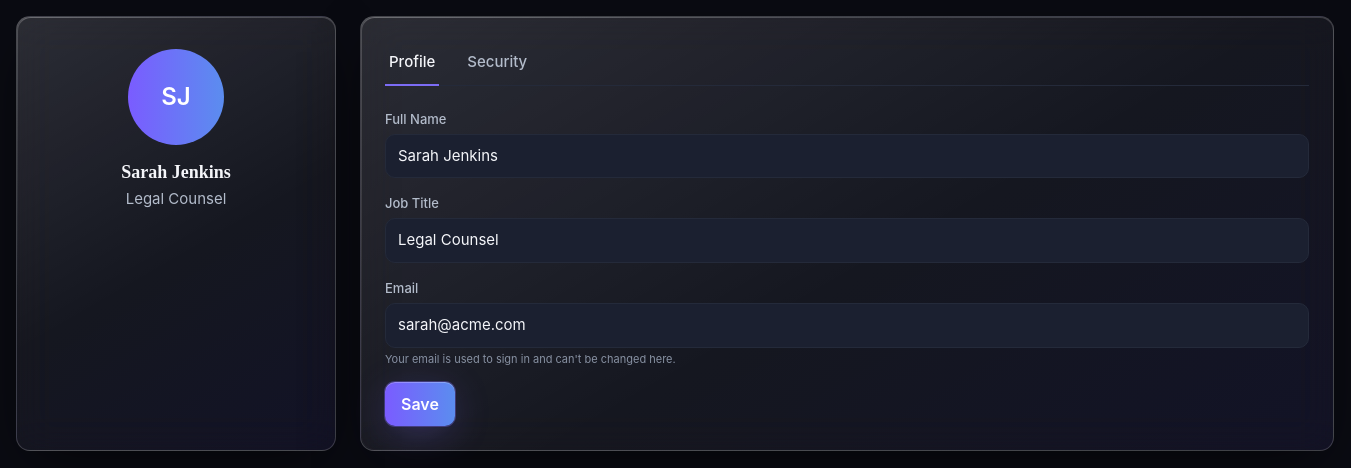
Scenario: AccountSettingsView (spec 023 AC-9..12) › save_profile_error_shows_message_and_no_refresh
Click the button "Save" at (420, 404), box x1=385 y1=382 x2=455 y2=426
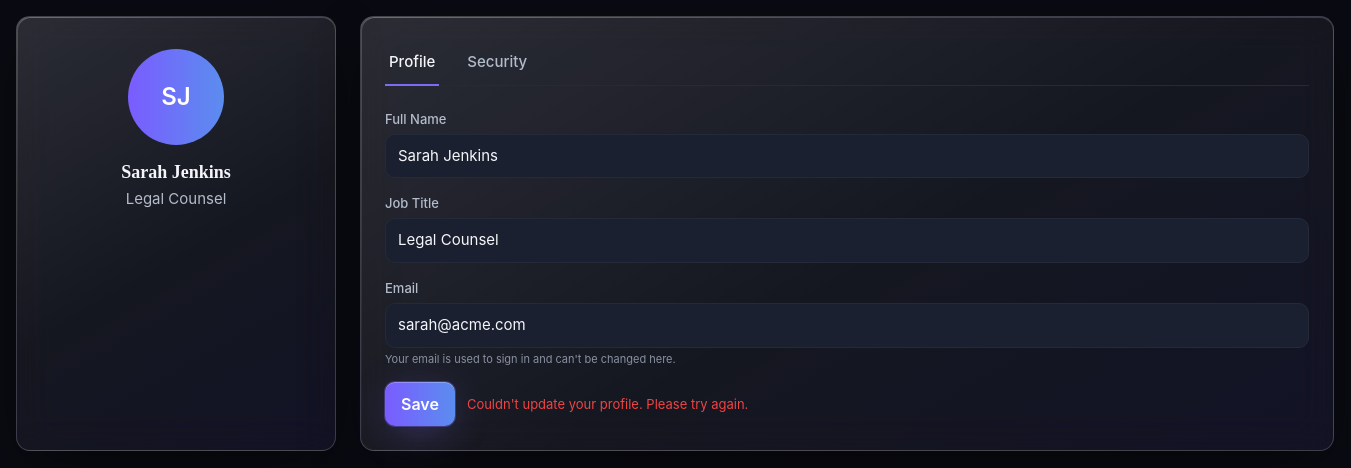
Expected: the text "Couldn't update your profile. Please try again." is shown, x1=467 y1=395 x2=748 y2=413
